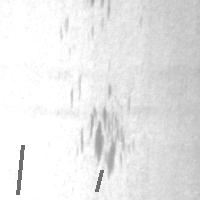inclusion: (77, 94, 130, 179), (15, 143, 24, 196), (94, 168, 103, 193)
